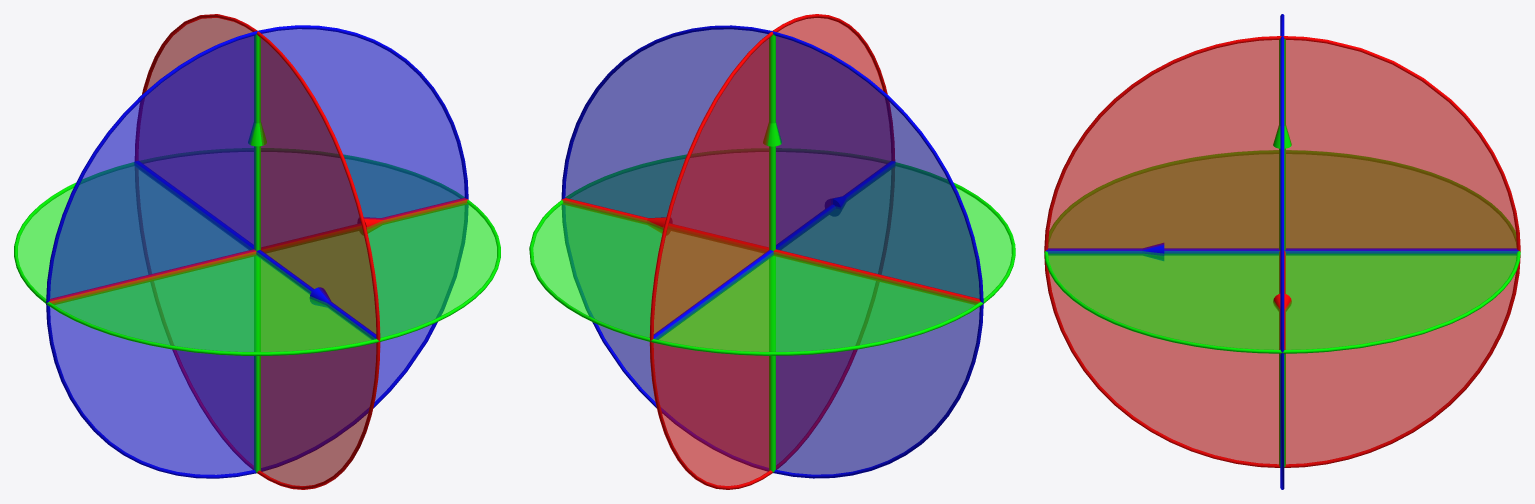
File: gizmoSet.fbx
3 renders of one model, left to right at view 1: azimuth 30°, elevation 25°; view 2: azimuth 150°, elevation 25°; view 3: azimuth 270°, elevation 25°, orthographic. The views are drawn at different scales.
Visible parts, largest first — view 1: Object_1, Object_3, Object_2, Object_15, Object_4, Object_5, Object_6, Object_7, Object_8; view 2: Object_1, Object_3, Object_2, Object_15, Object_4, Object_5, Object_6, Object_7, Object_8; view 3: Object_3, Object_2, Object_4, Object_5, Object_8, Object_15, Object_7.
Boxes of the visible parts, x1,y1,x2,y2 form: Object_1: [49, 28, 467, 477]; Object_3: [138, 18, 380, 485]; Object_2: [16, 155, 498, 351]; Object_15: [46, 25, 468, 478]; Object_4: [135, 14, 380, 489]; Object_5: [14, 148, 500, 355]; Object_6: [49, 198, 468, 304]; Object_7: [254, 34, 260, 472]; Object_8: [134, 161, 376, 339]; Object_1: [565, 29, 979, 474]; Object_3: [649, 18, 891, 485]; Object_2: [531, 154, 1013, 351]; Object_15: [561, 25, 983, 478]; Object_4: [650, 14, 894, 489]; Object_5: [529, 148, 1015, 355]; Object_6: [562, 198, 980, 304]; Object_7: [769, 34, 775, 472]; Object_8: [653, 161, 895, 339]; Object_3: [1046, 39, 1518, 466]; Object_2: [1046, 150, 1518, 349]; Object_4: [1044, 36, 1520, 467]; Object_5: [1044, 151, 1520, 353]; Object_8: [1046, 248, 1518, 255]; Object_15: [1280, 14, 1284, 489]; Object_7: [1279, 39, 1285, 467].
Bounding box in the file's own units: 0.2017 × 0.2017 × 0.2017.
